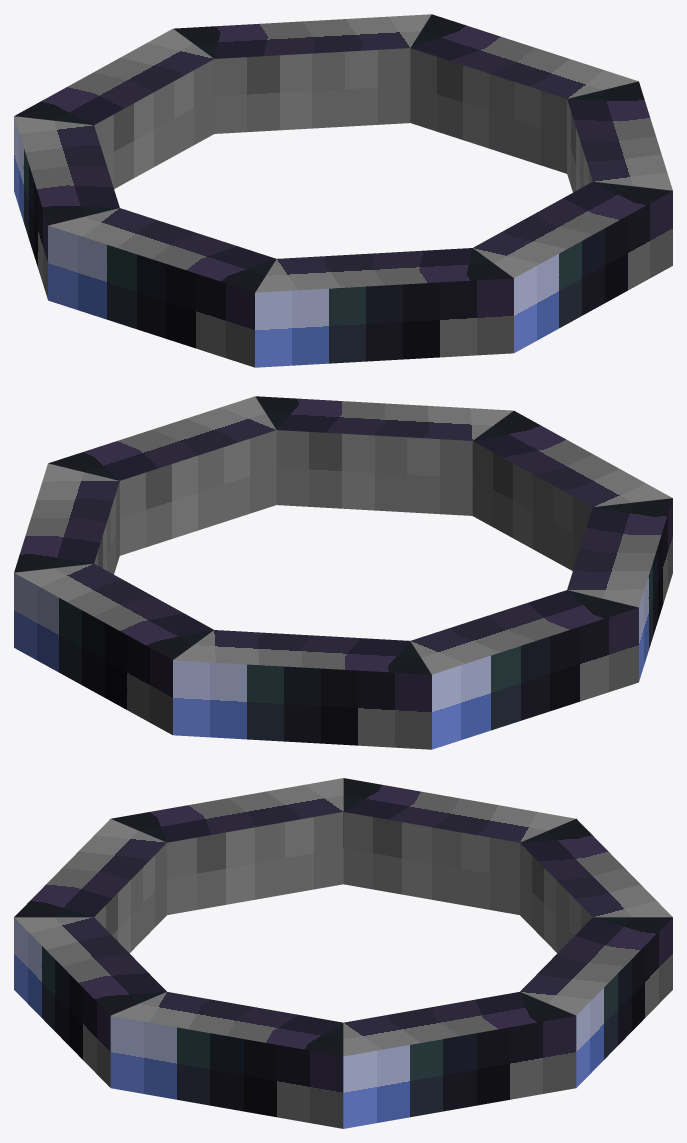
The model's file is ring3.obj.
3 views of the same model, one above another, from view 1: azimuth 30°, elevation 25°; view 2: azimuth 150°, elevation 25°; view 3: azimuth 270°, elevation 25° (orthographic). The views are drawn at different scales.
Visible parts, largest first — view 1: Ring03; view 2: Ring03; view 3: Ring03.
Boxes of the visible parts, x1,y1,x2,y2 form: Ring03: [14, 14, 672, 367]; Ring03: [14, 396, 672, 749]; Ring03: [14, 778, 672, 1128].
Bounding box in the file's own units: 0.4648 × 0.0564 × 0.4648.
